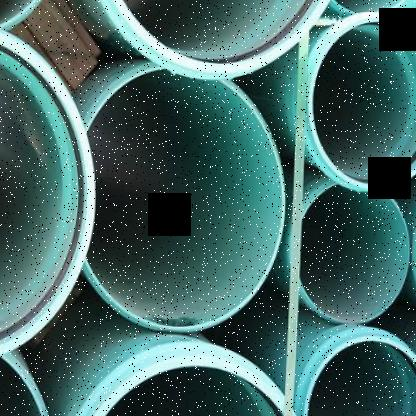pipe: (85, 67, 285, 332), (0, 24, 96, 363), (309, 13, 416, 190), (300, 185, 408, 323), (76, 352, 305, 416), (303, 334, 416, 416), (0, 348, 55, 416), (0, 0, 58, 32)
